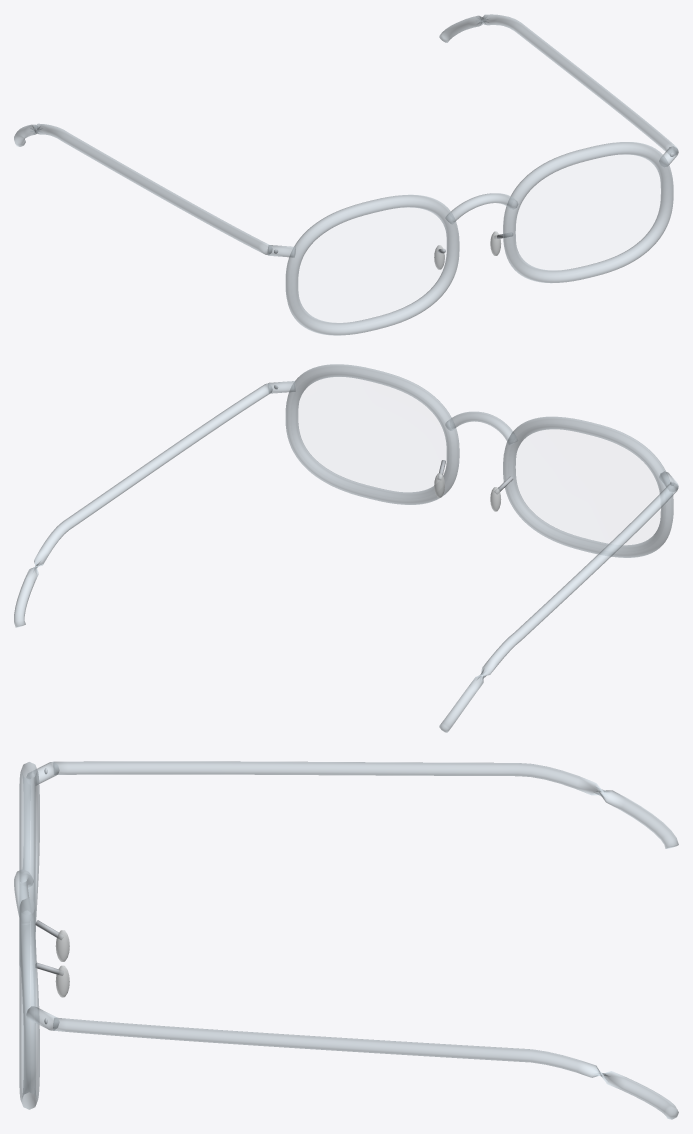
Rendered from tim-08-v1.glb.
3 views of the same model, one above another, from view 1: azimuth 30°, elevation 25°; view 2: azimuth 150°, elevation 25°; view 3: azimuth 270°, elevation 25° (orthographic). The views are drawn at different scales.
Parts seen in each view (by area): view 1: rim_right, rim_left, temple_right, temple_left, bridge; view 2: rim_left, rim_right, temple_left, temple_right, bridge; view 3: temple_right, temple_left, rim_left, rim_right, bridge.
Boxes of the visible parts, x1,y1,x2,y2 form: rim_right: (285,194,459,335); rim_left: (503,142,673,283); temple_right: (14,123,272,254); temple_left: (439,14,678,154); bridge: (445,193,517,224); rim_left: (285,364,459,504); rim_right: (503,416,673,557); temple_left: (14,383,272,627); temple_right: (439,482,678,732); bridge: (445,411,517,444); temple_right: (53,761,678,848); temple_left: (53,1017,678,1119); rim_left: (19,898,39,1109); rim_right: (19,762,39,966); bridge: (14,869,33,916).
Size of the model in its own units: 0.1562 by 0.042 by 0.1506.
